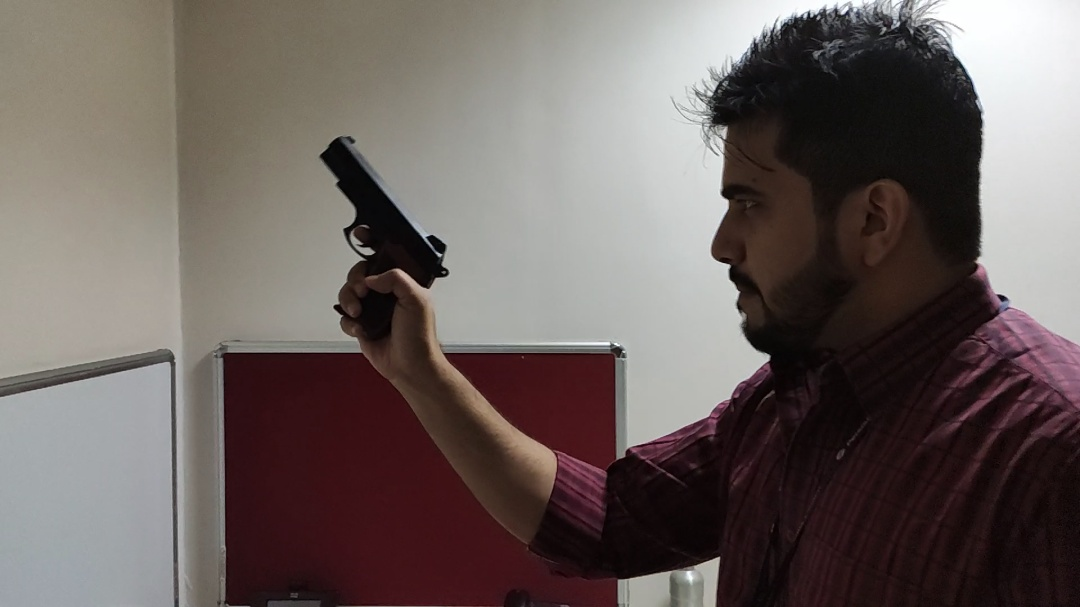gun: (470, 523, 517, 581)
